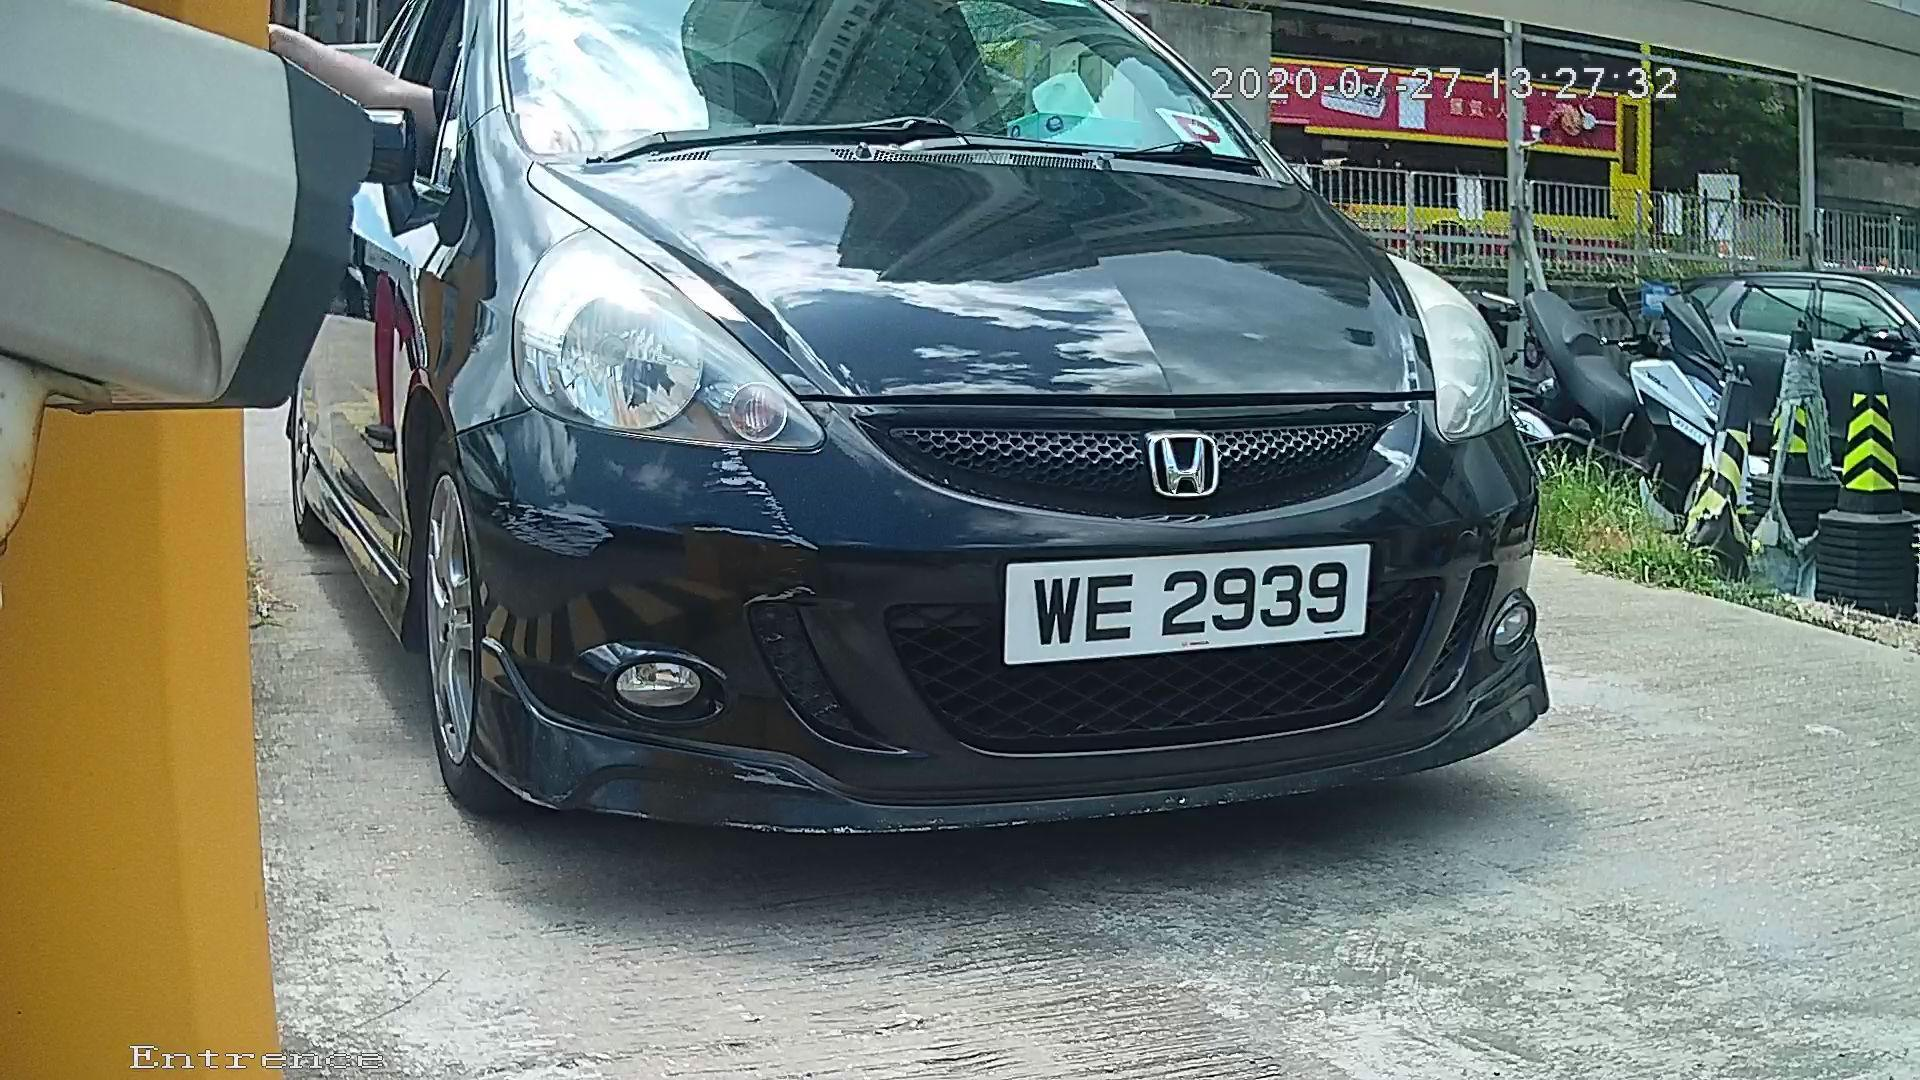Car: (258, 29, 1569, 864)
License Plate: (969, 531, 1381, 675)
